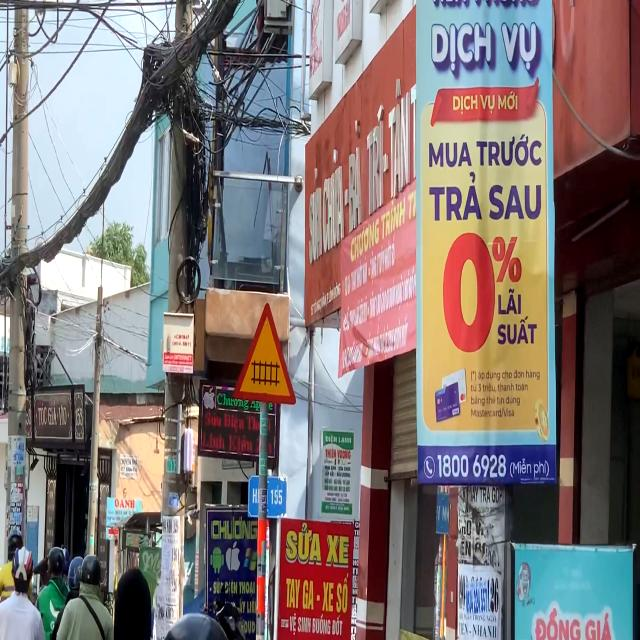W.210: (233, 300, 299, 413)
